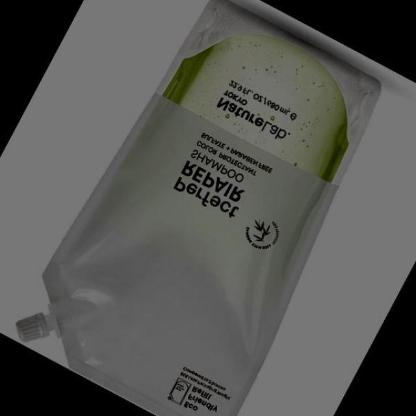Plastic Packaging: (12, 1, 384, 415)
